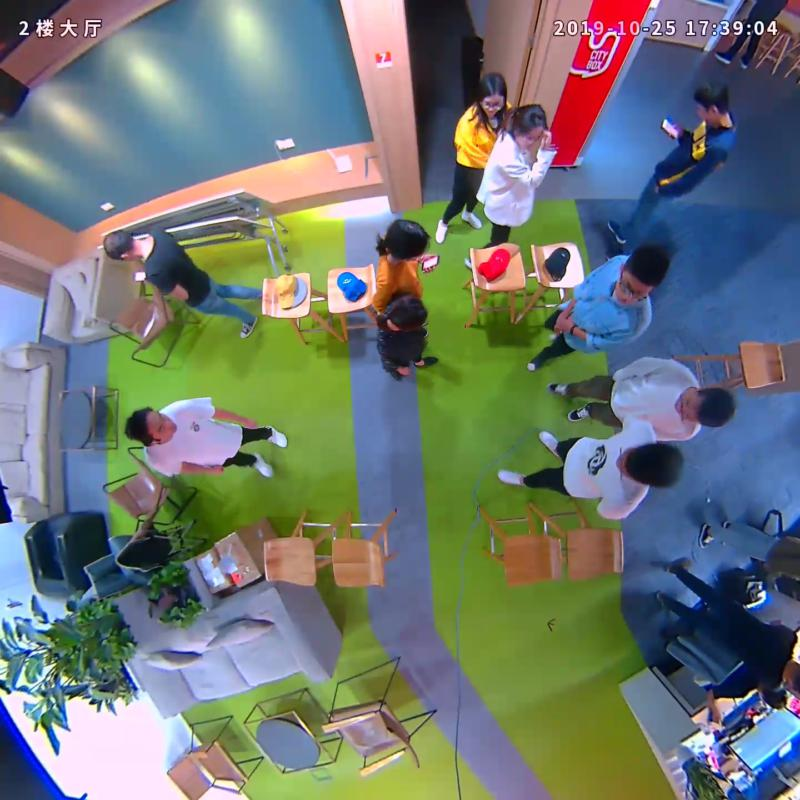head: (614, 247, 669, 305), (617, 442, 683, 488), (676, 386, 735, 429), (125, 405, 177, 445), (385, 219, 429, 263), (509, 103, 548, 151), (387, 293, 428, 332), (693, 79, 729, 123), (475, 73, 508, 119), (102, 230, 138, 261)
